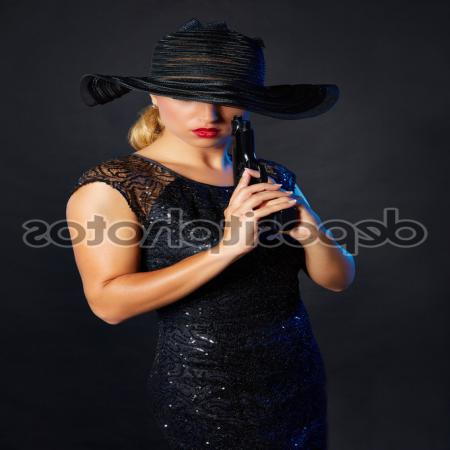Pistol: (228, 114, 306, 234)
